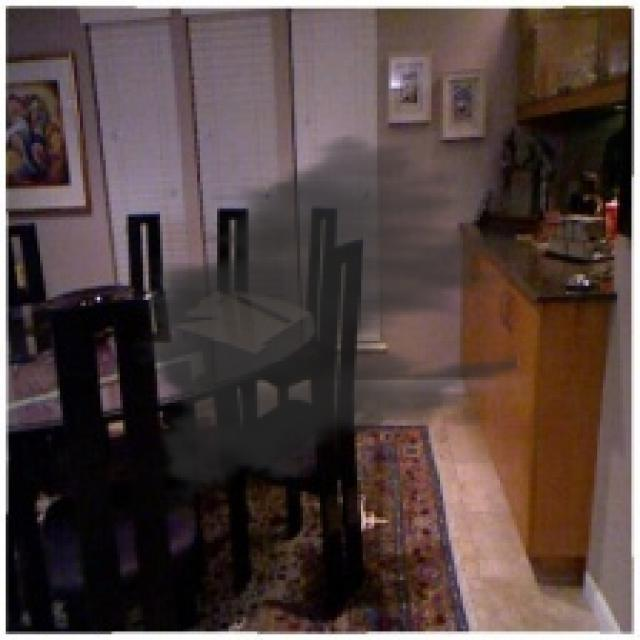Smoke: (125, 122, 518, 508)
